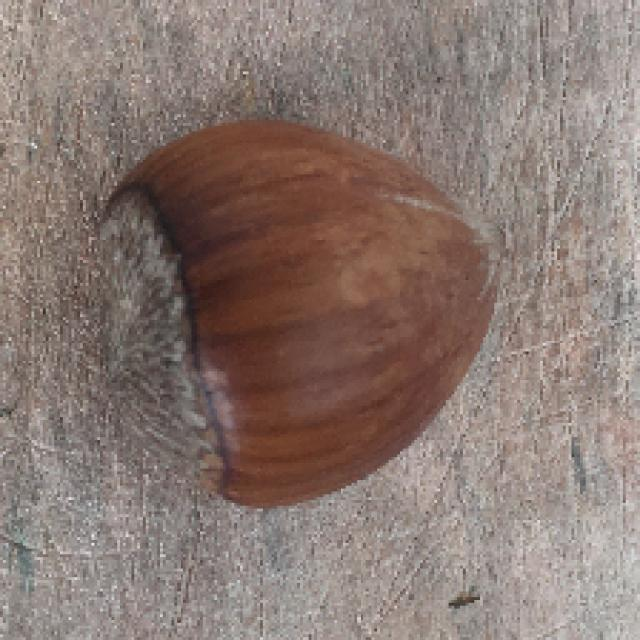damagedHazelnut: (96, 112, 506, 527)
